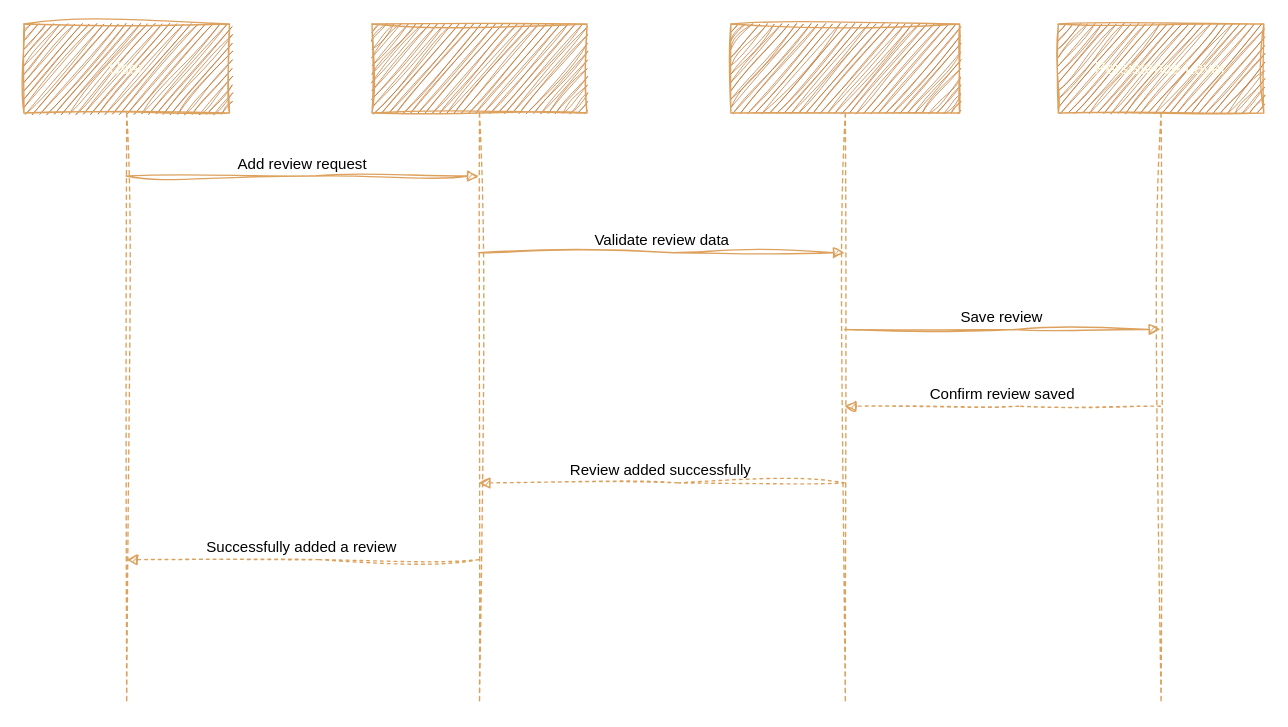
Image size: 1288x727. Some labels were removed from this diagram. Here are the shapes that lost their labels. From the top down, the centre of each, then its label:
the point at 479,363: Presentation Layer
the point at 845,363: Business Logic Layer
